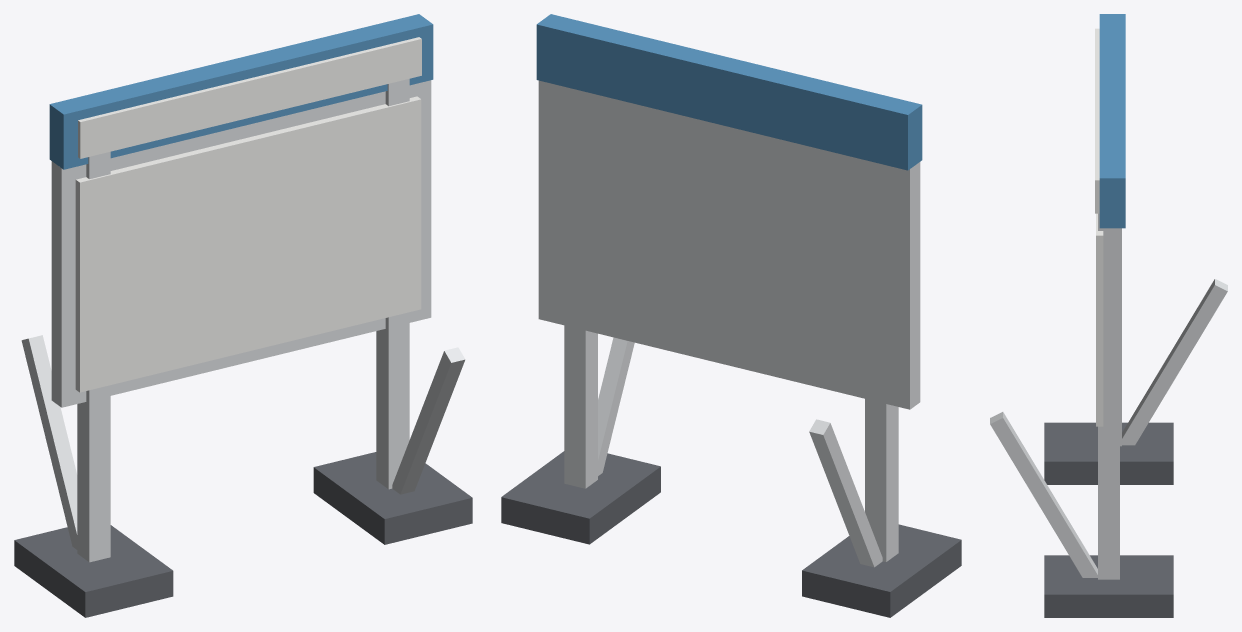
The model's file is shipyard-and-dry-dock-shipyard-and-dry-dock-muster-boa-10a1280b__37967.glb.
3 views of the same model, side by side, from view 1: azimuth 30°, elevation 25°; view 2: azimuth 150°, elevation 25°; view 3: azimuth 270°, elevation 25° (orthographic). The views are drawn at different scales.
Parts seen in each view (by area): view 1: shipyard-and-dry-dock-muster-board; view 2: shipyard-and-dry-dock-muster-board; view 3: shipyard-and-dry-dock-muster-board.
Part boxes in pixels (x1,y1,x2,y2): shipyard-and-dry-dock-muster-board: [14, 14, 472, 617]; shipyard-and-dry-dock-muster-board: [501, 14, 961, 617]; shipyard-and-dry-dock-muster-board: [990, 14, 1227, 617].
Bounding box in the file's own units: 2.2 × 2.6 × 1.29.
